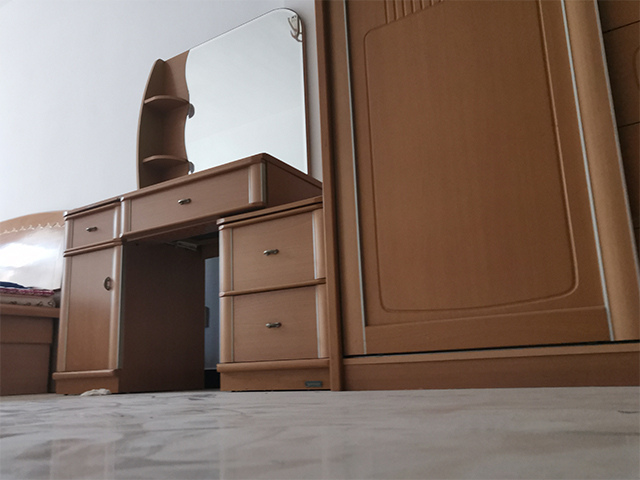bed: (1, 208, 72, 398)
cabinet: (50, 152, 325, 396)
